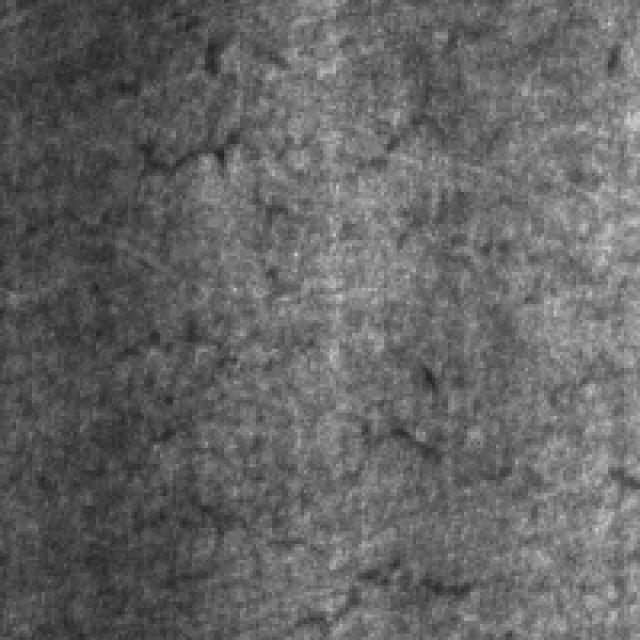crazing: (80, 394, 480, 630), (102, 19, 500, 176)
